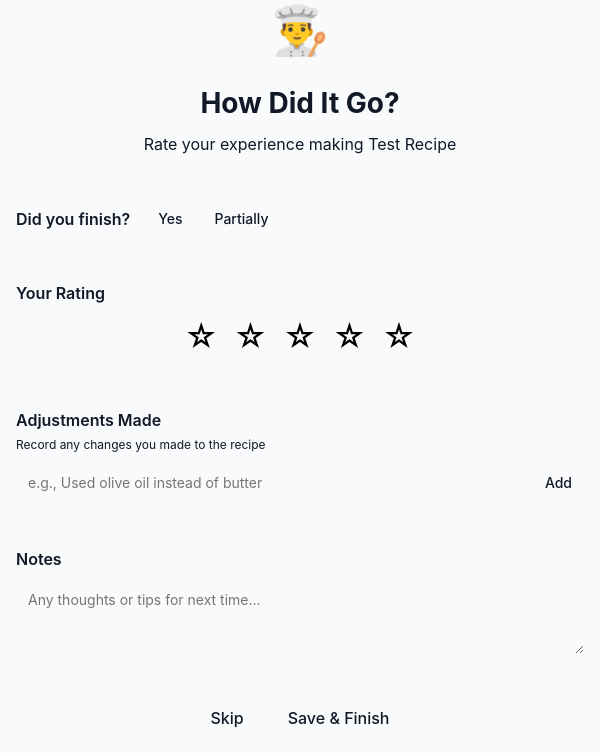
Test: CookCompletion › after save, shows celebration view
(page scrolled)
Click the button "Save & Finish" at (339, 718), box [272,700,406,736]
(page scrolled)
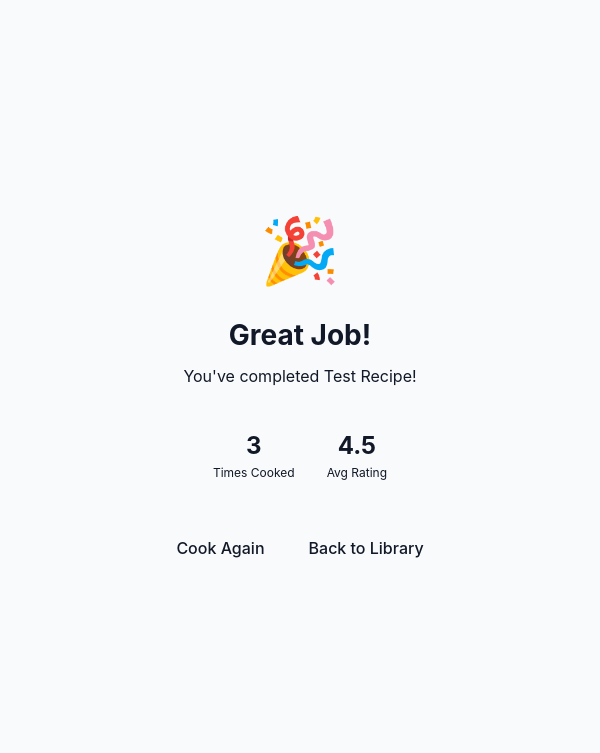
Result: the heading "Great Job!" is shown at [229,318,371,352]
Result: the text "You've completed Test Recipe!" is shown at [183,366,417,386]
Result: the button "Cook Again" is shown at [160,530,281,566]
